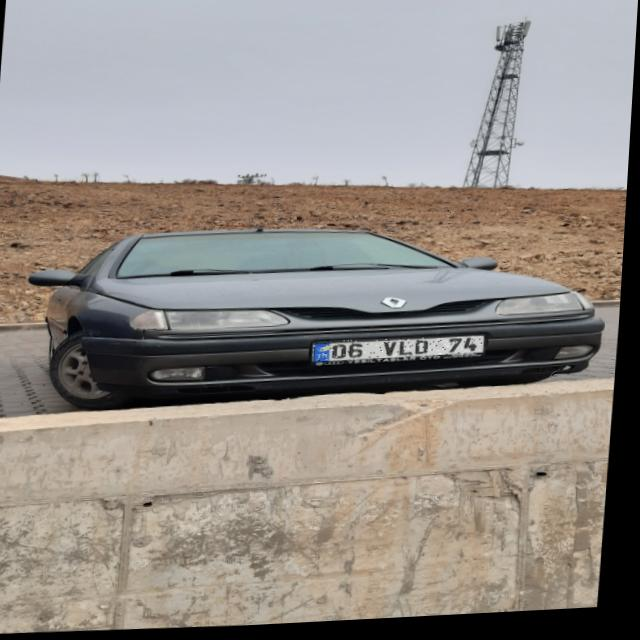license_plate: (315, 337, 489, 367)
